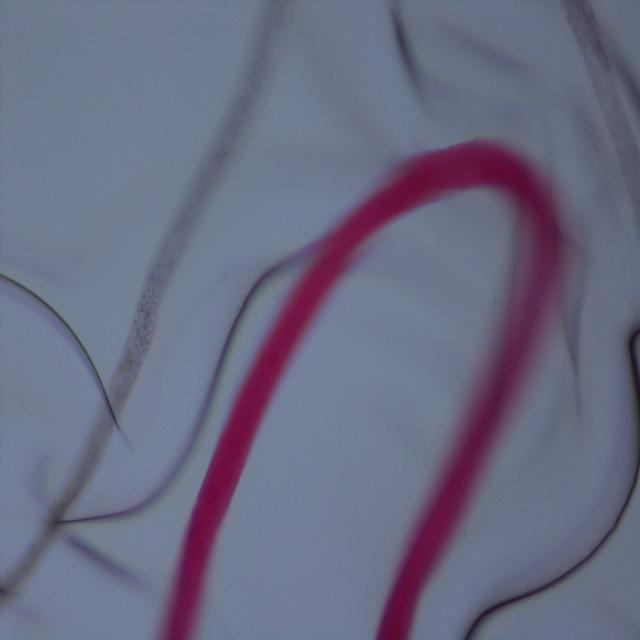Background material: (464, 314, 640, 640), (62, 392, 218, 570), (377, 0, 535, 128), (2, 258, 106, 392)
Microfibre: (155, 124, 572, 640), (0, 3, 282, 604), (564, 0, 640, 211)
